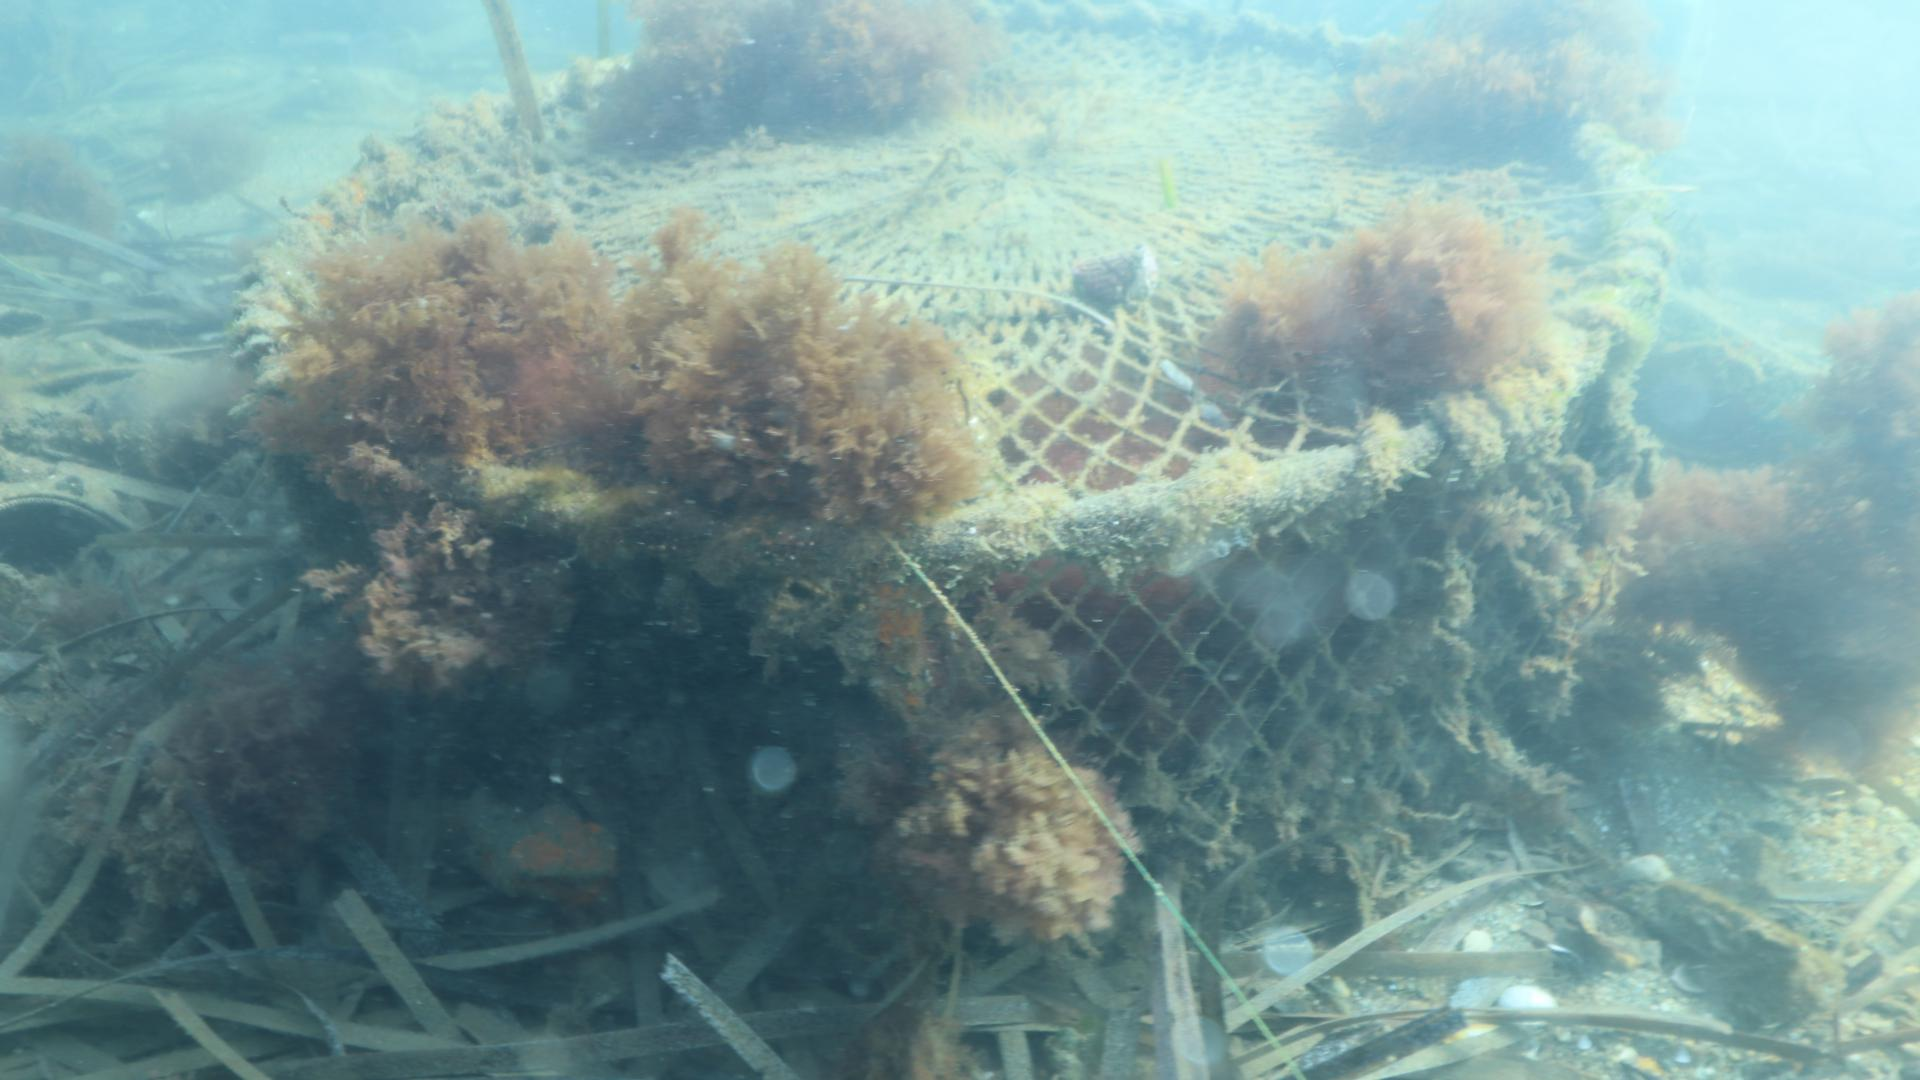circular fish trap: (231, 1, 1659, 848)
